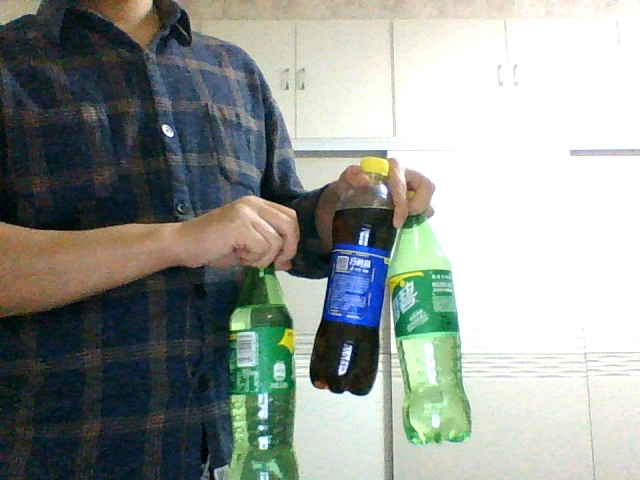Cola: (308, 157, 397, 390)
Sprite: (390, 192, 472, 444), (226, 255, 297, 479)
